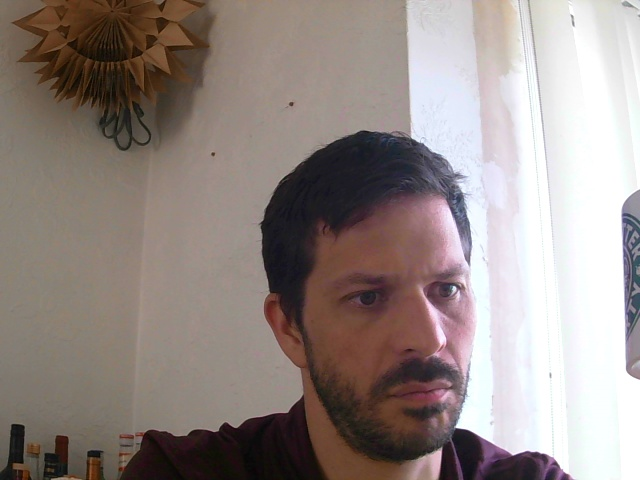mug: (621, 185, 640, 382)
